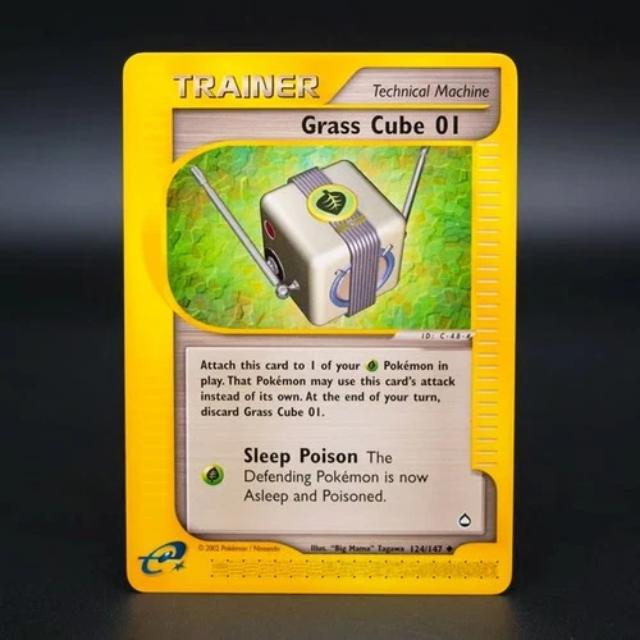Card: (118, 47, 522, 601)
Name: (292, 108, 470, 143)
